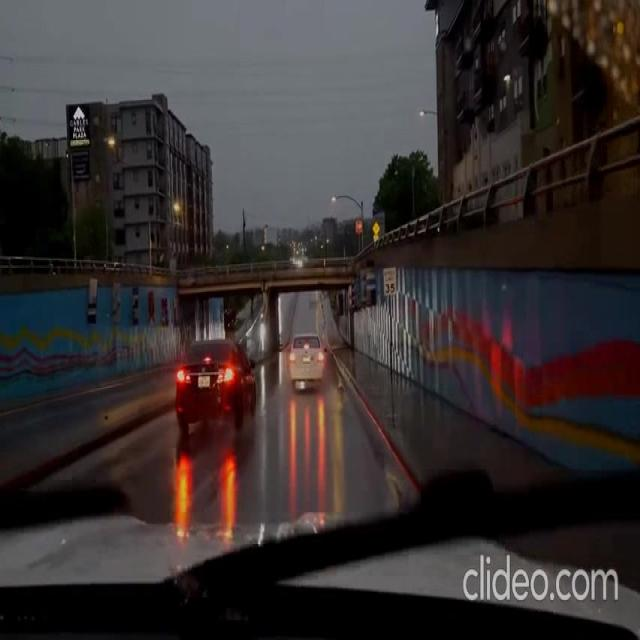Car: (174, 336, 255, 428), (286, 332, 325, 390)
